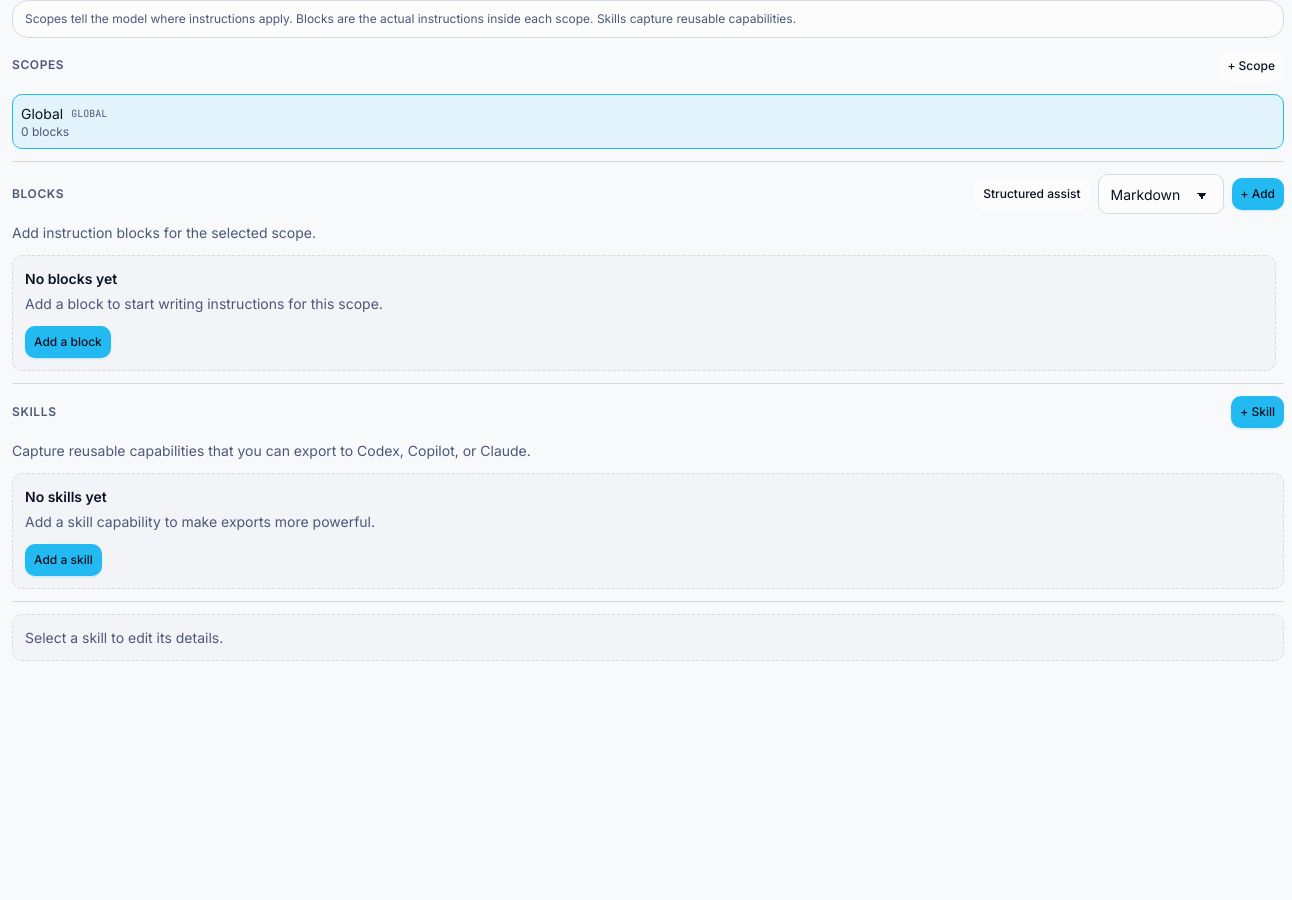
Test case: StructurePanel › adds a glob scope with inline validation
Expected: the text "Scopes" is shown, [12, 57, 64, 74]
Expected: the text "Scopes tell the model where instructions apply. Blocks are the actual instructions inside each scope. Skills capture reu" is shown, [25, 11, 796, 26]
Click the button with aria-label "Add scope" at (1251,66), box [1218, 50, 1284, 82]
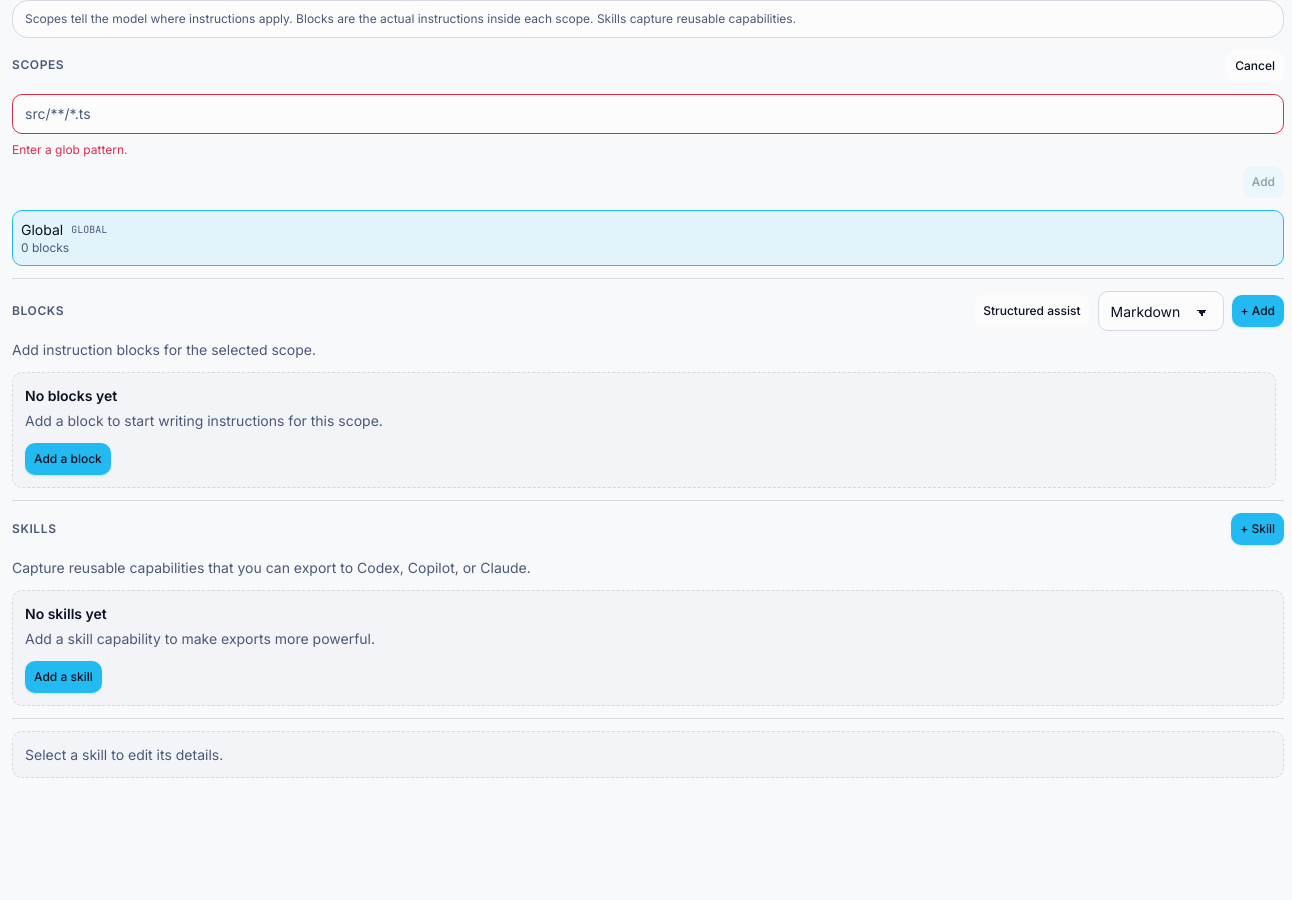
Type "[" into the field named "Scope glob pattern" at (648,114), box [12, 94, 1284, 134]
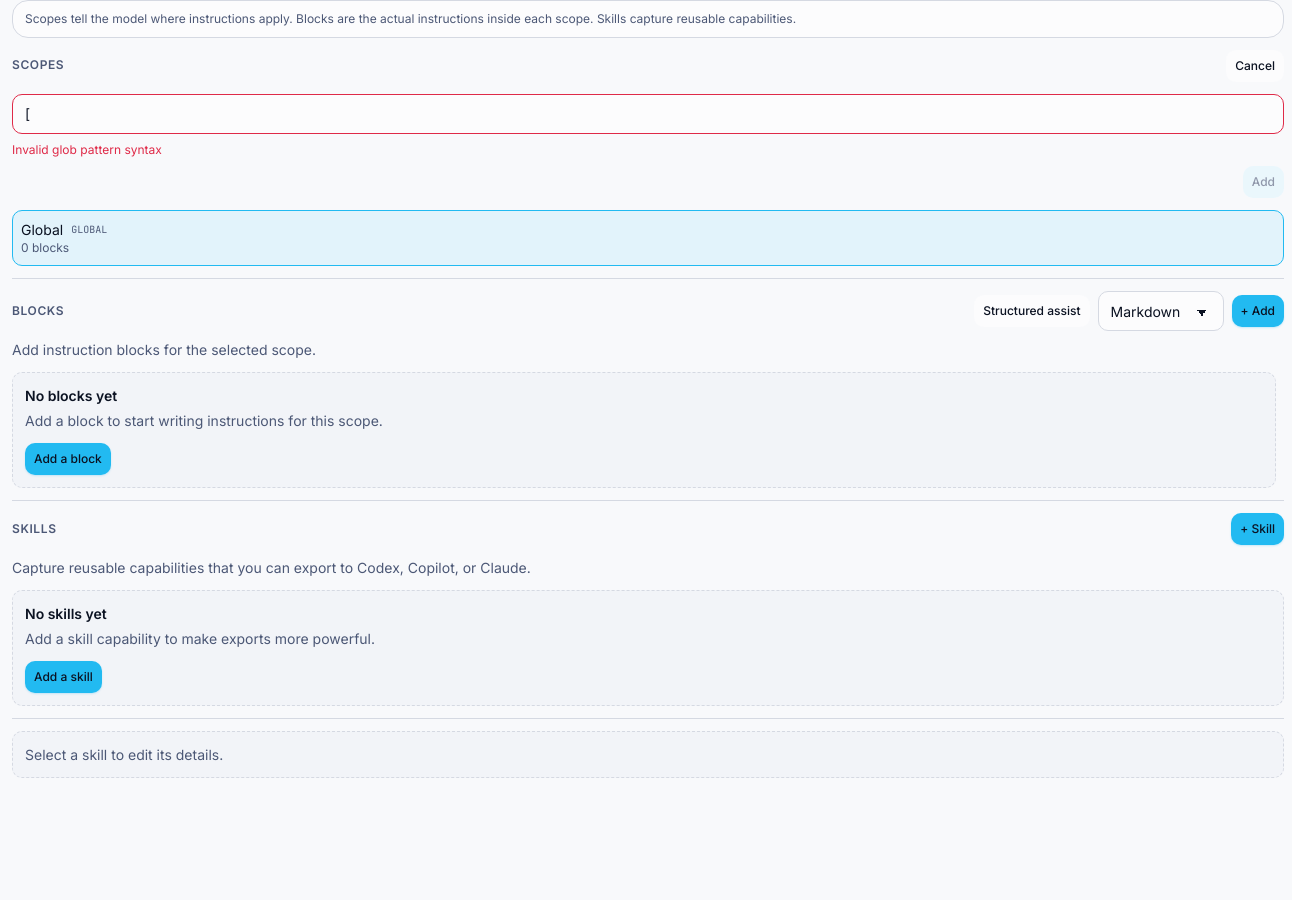
Expected: the button "Add" is disabled, [1243, 166, 1284, 198]
Expected: the text "Invalid glob pattern syntax" is shown, [12, 142, 162, 156]
Replace the text in the field named "Scope glob pattern" with "src/**/*.ts" at (648,114), box [12, 94, 1284, 134]
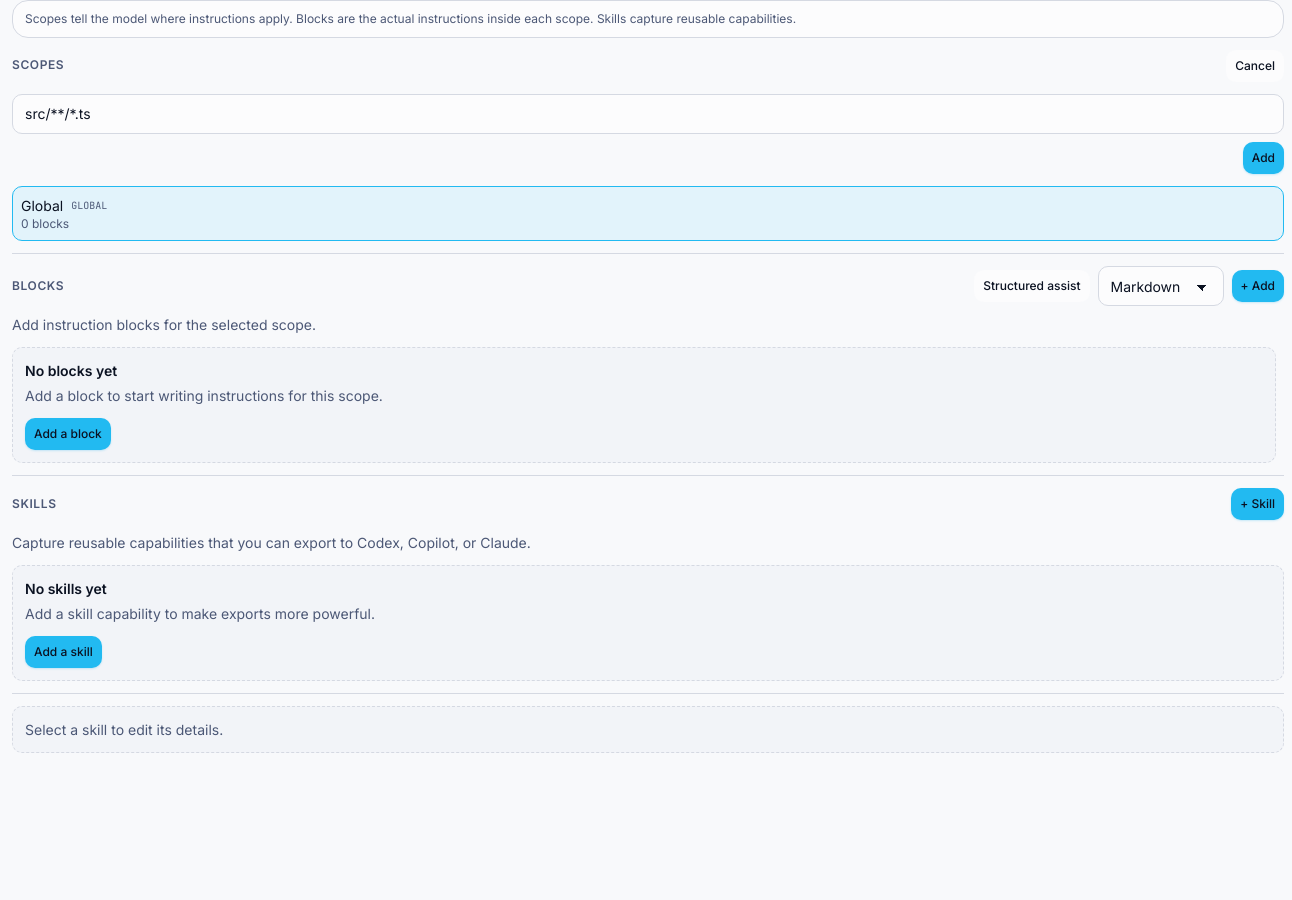
Expected: the text "Invalid glob pattern syntax" is gone
Click the button "Add" at (1263,158), box [1243, 142, 1284, 174]
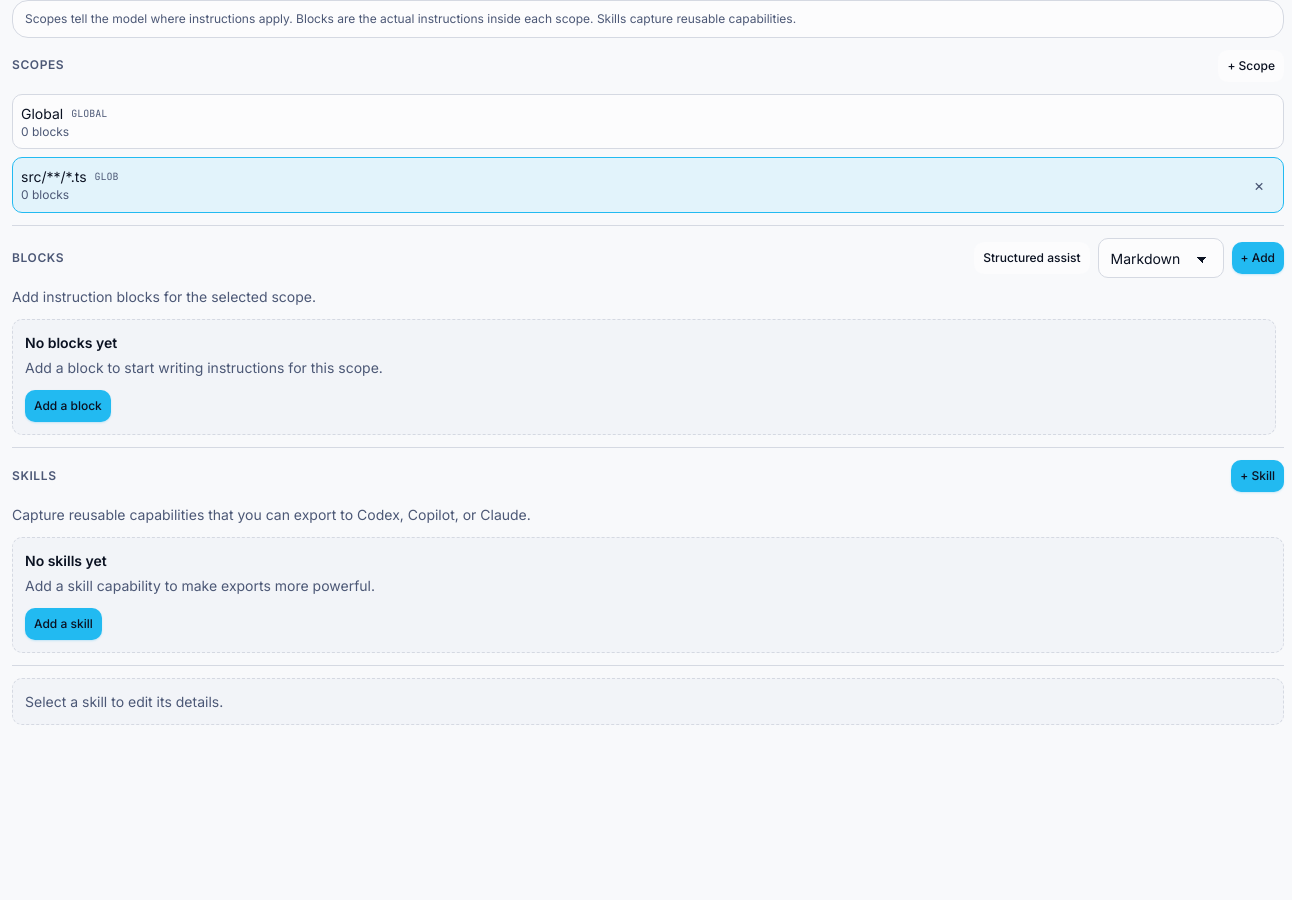
Expected: the text "src/**/*.ts" is shown, [21, 166, 86, 187]
